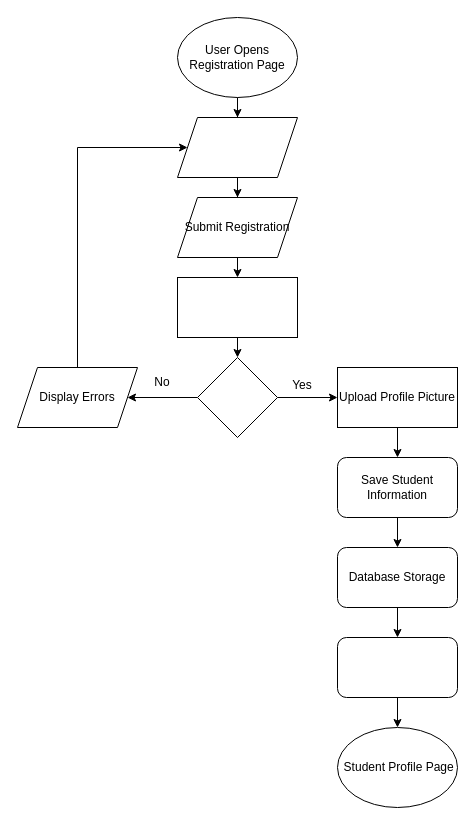
Image size: 475x825. Some labels were removed from this diagram. Here are the shapes that lost their labels. From the top down, the box of each, then its label:
(176, 116, 298, 178): Fill Out Form
(176, 276, 298, 338): Laravel Validation
(196, 356, 278, 438): Valid Data?
(336, 636, 458, 698): Success Message
